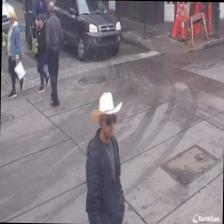person: (84, 91, 126, 224)
